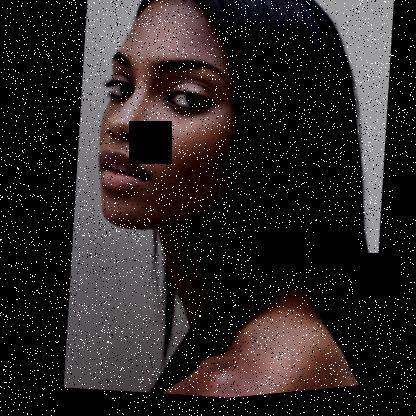Female: (69, 0, 268, 250)
